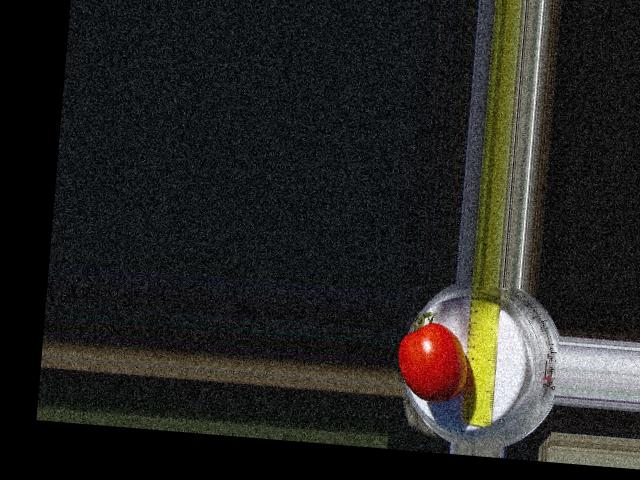tomato: (394, 319, 472, 403)
